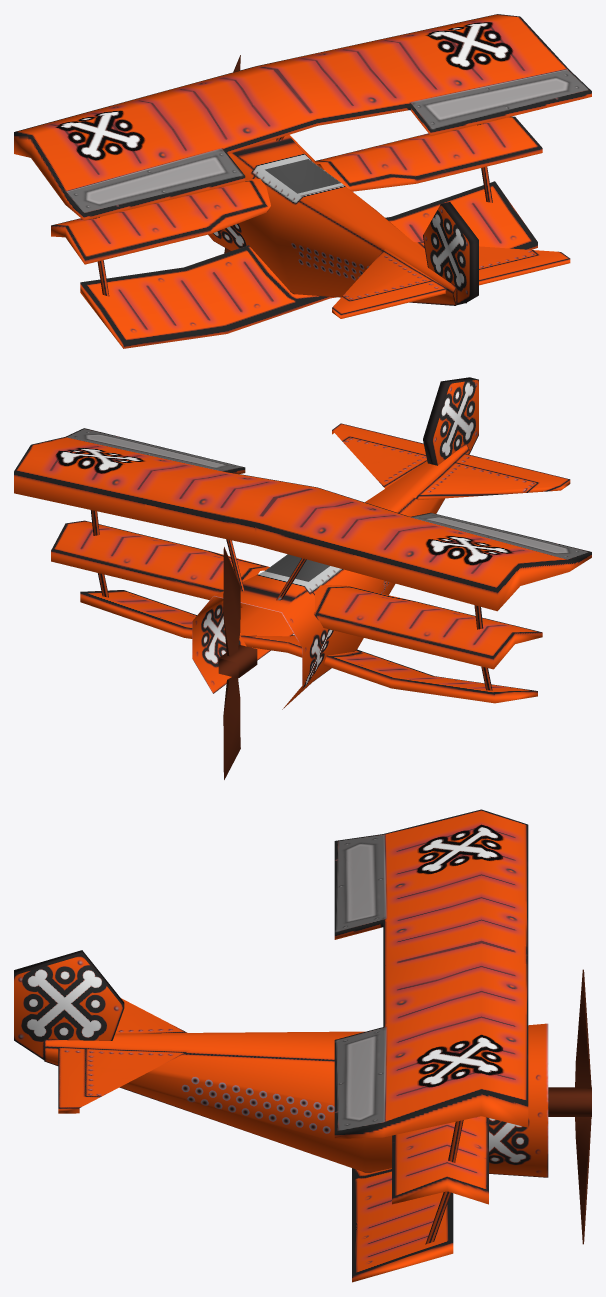
The model's file is BombarderoEnemigo2_V2.fbx.
3 views of the same model, one above another, from view 1: azimuth 30°, elevation 25°; view 2: azimuth 150°, elevation 25°; view 3: azimuth 270°, elevation 25° (orthographic). The views are drawn at different scales.
Visible parts, largest first — view 1: polySurface3; view 2: polySurface3, Helix; view 3: polySurface3, Helix.
Boxes of the visible parts, x1,y1,x2,y2 form: polySurface3: (14,14,591,348); polySurface3: (14,377,591,709); Helix: (218,547,257,779); polySurface3: (14,809,548,1282); Helix: (548,969,591,1244).
Size of the model in its own units: 7.1 by 3.38 by 5.95.
